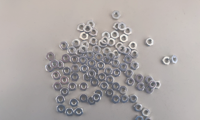nut: (57, 104, 66, 114), (79, 94, 89, 103), (61, 87, 70, 97), (53, 82, 63, 91), (68, 82, 78, 91), (46, 52, 56, 61), (60, 41, 70, 50), (83, 25, 93, 34), (111, 59, 121, 68), (113, 22, 122, 32), (75, 108, 84, 117), (70, 98, 79, 107), (80, 82, 89, 91), (71, 73, 80, 82), (50, 60, 59, 69), (62, 54, 71, 63), (70, 55, 79, 64), (68, 46, 77, 55), (79, 56, 88, 65), (112, 11, 121, 20), (81, 41, 90, 50), (78, 23, 87, 32), (89, 28, 98, 37), (145, 38, 154, 47), (134, 103, 143, 112), (121, 95, 130, 104), (112, 95, 121, 104), (145, 76, 154, 85), (135, 74, 144, 83), (92, 94, 101, 103), (98, 73, 107, 82), (86, 51, 95, 60), (95, 53, 104, 62), (97, 61, 106, 70), (119, 63, 128, 72), (107, 52, 116, 61), (103, 56, 112, 65), (103, 47, 112, 56), (102, 31, 111, 40), (118, 22, 127, 31), (111, 30, 120, 39), (120, 34, 129, 43), (56, 96, 66, 104), (52, 72, 62, 80), (62, 67, 72, 75), (141, 109, 151, 117), (87, 70, 97, 78), (93, 45, 101, 55), (61, 76, 69, 85), (46, 64, 55, 72), (71, 64, 80, 72), (72, 39, 81, 47), (76, 48, 85, 56), (80, 45, 88, 54), (80, 32, 89, 40), (87, 20, 96, 28), (90, 37, 98, 46), (170, 55, 178, 64), (130, 95, 139, 103), (119, 86, 128, 94), (126, 78, 135, 86), (137, 83, 146, 91), (146, 86, 155, 94), (153, 81, 162, 89), (125, 70, 134, 78), (106, 89, 115, 97), (88, 97, 97, 105), (100, 82, 109, 90), (91, 78, 99, 87), (88, 59, 96, 68), (91, 67, 99, 76), (105, 67, 113, 76), (112, 83, 121, 91), (113, 69, 122, 77), (124, 56, 133, 64), (131, 50, 139, 59), (129, 42, 138, 50), (108, 38, 116, 47), (124, 26, 132, 35), (66, 108, 74, 116), (56, 61, 64, 69), (81, 65, 89, 73), (163, 57, 171, 65), (149, 81, 157, 89), (131, 62, 139, 70), (95, 90, 103, 98), (84, 74, 92, 82), (107, 76, 115, 84), (119, 45, 127, 53), (99, 40, 107, 48), (116, 42, 124, 50), (101, 37, 110, 44), (124, 48, 132, 55), (114, 50, 121, 58), (135, 116, 144, 120), (145, 118, 153, 120)
